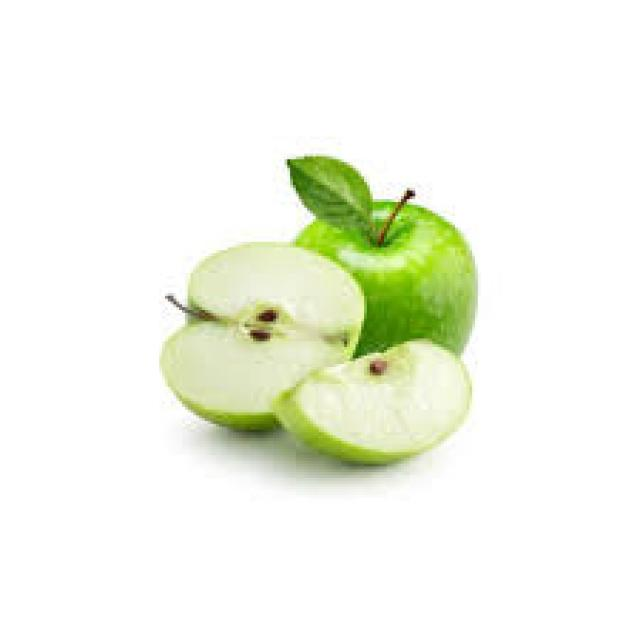Apple: (164, 246, 368, 434), (288, 199, 480, 364), (280, 339, 477, 468)
